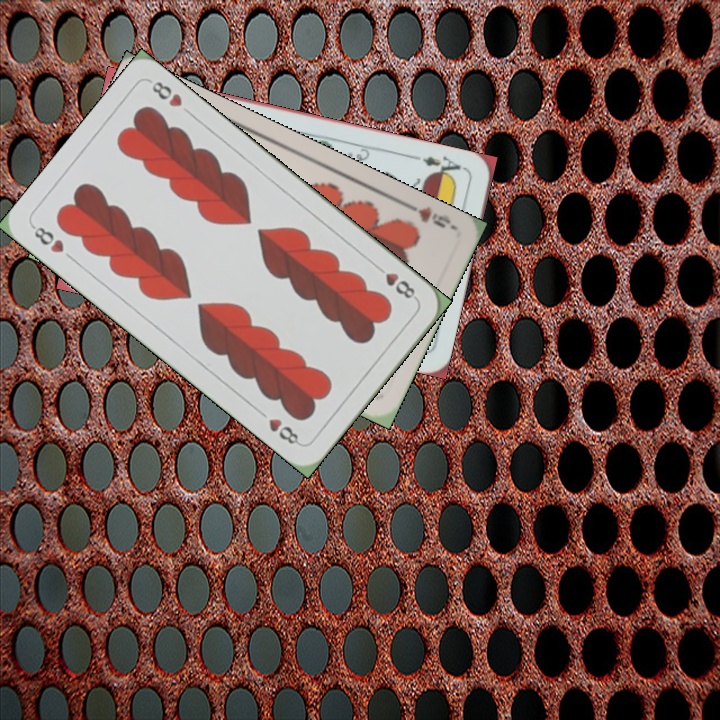EA: (418, 151, 468, 182)
H8: (370, 260, 420, 303), (28, 221, 67, 256)
H9: (401, 198, 457, 232)
